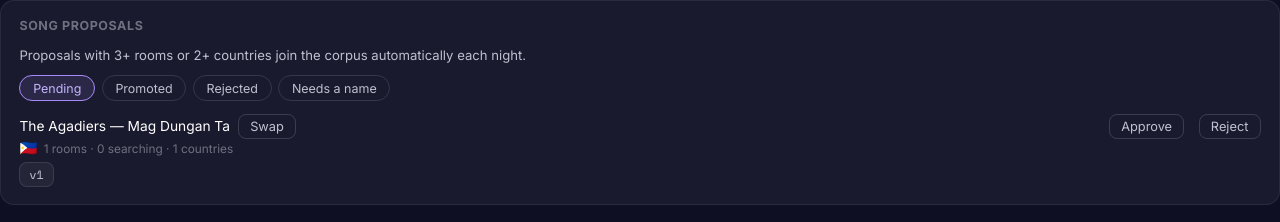
Test case: Proposals › flips the current reading on Swap, in place, no candidate lookup
Check: the text "The Agadiers — Mag Dungan Ta" is shown, box [19, 118, 230, 134]
Click the button "Swap" at (267, 127), box [238, 114, 296, 139]
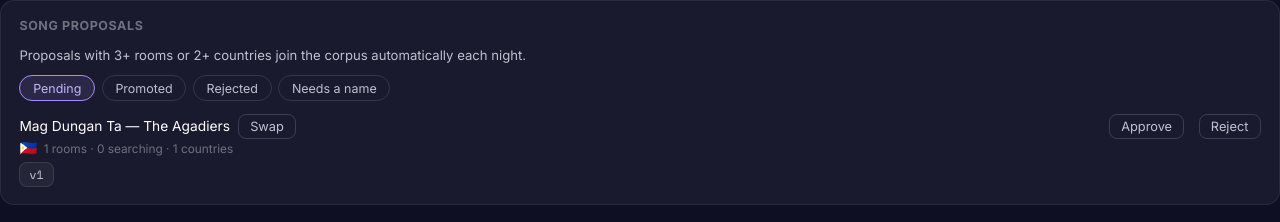
Check: the text "Mag Dungan Ta — The Agadiers" is shown, box [19, 118, 230, 134]
